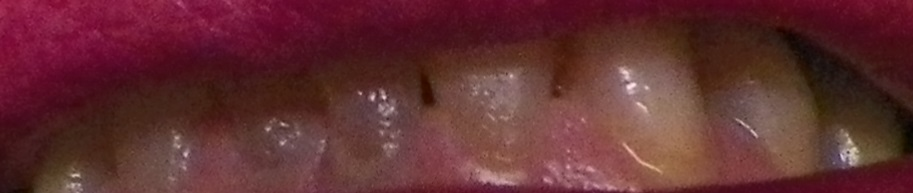boca: (35, 40, 882, 192)
